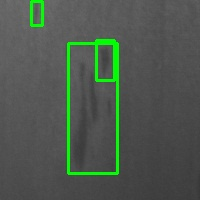inclusion: (68, 43, 117, 173), (96, 40, 114, 80), (31, 1, 42, 25)
